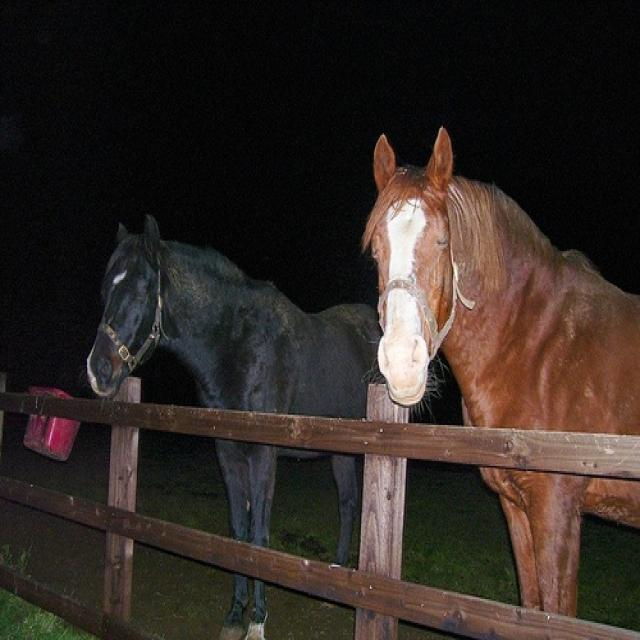horse: (91, 217, 434, 638), (362, 130, 639, 638)
